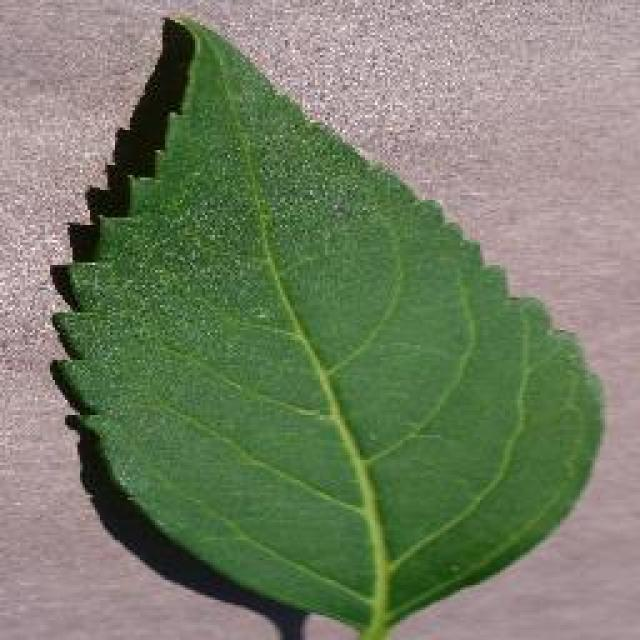Cherry___healthy: (107, 105, 558, 590)
